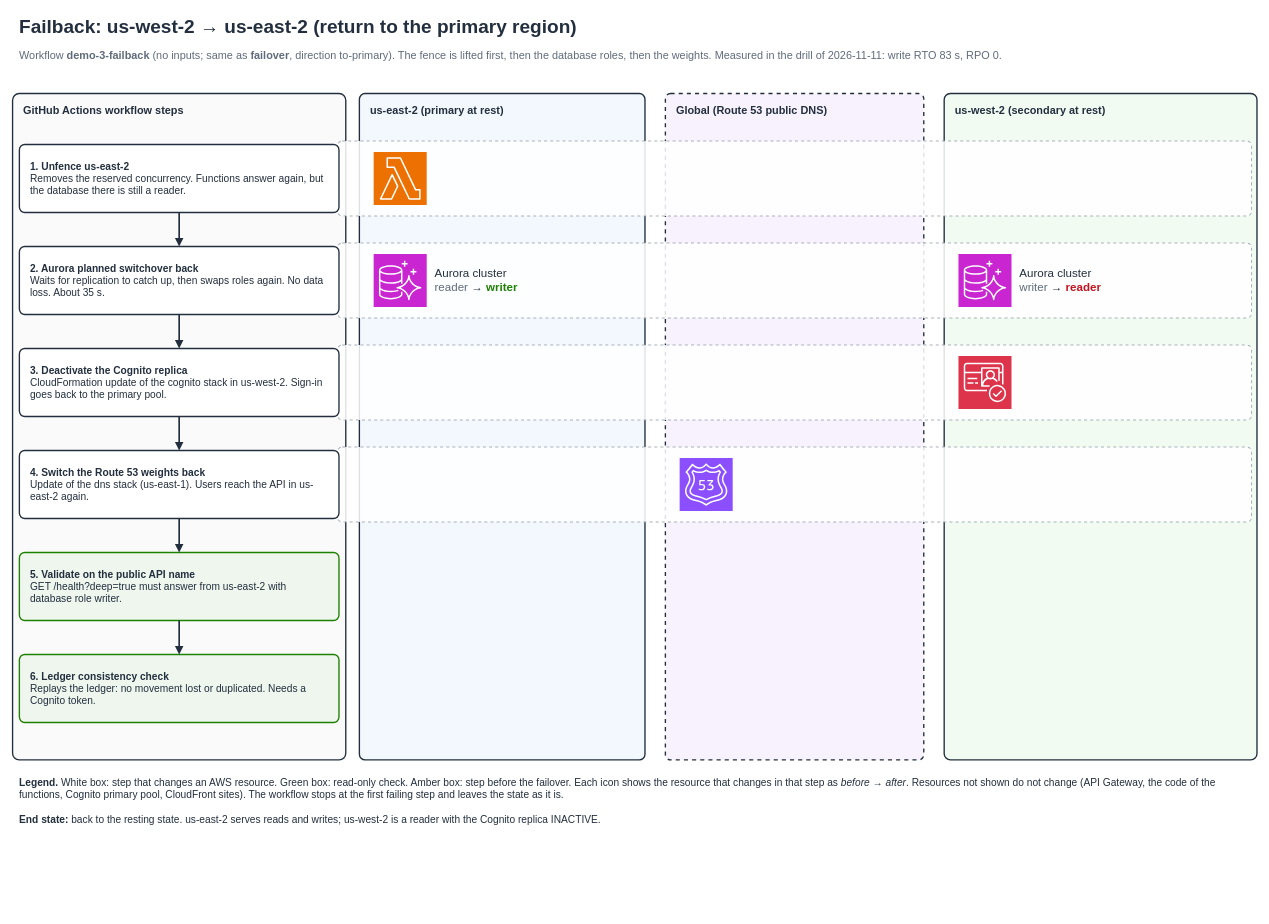
The diagram is 1269 pixels wide and 924 high, and some of its shapes have lost their labels. Each missing label, with the centre of its shape:
6 Lambda functions fenced (concurrency 0) → serving: (400,178)
Cognito replica attachment ACTIVE → INACTIVE: (985,382)
Weighted records use2 / usw2 0 / 255 → 255 / 0: (706,484)
